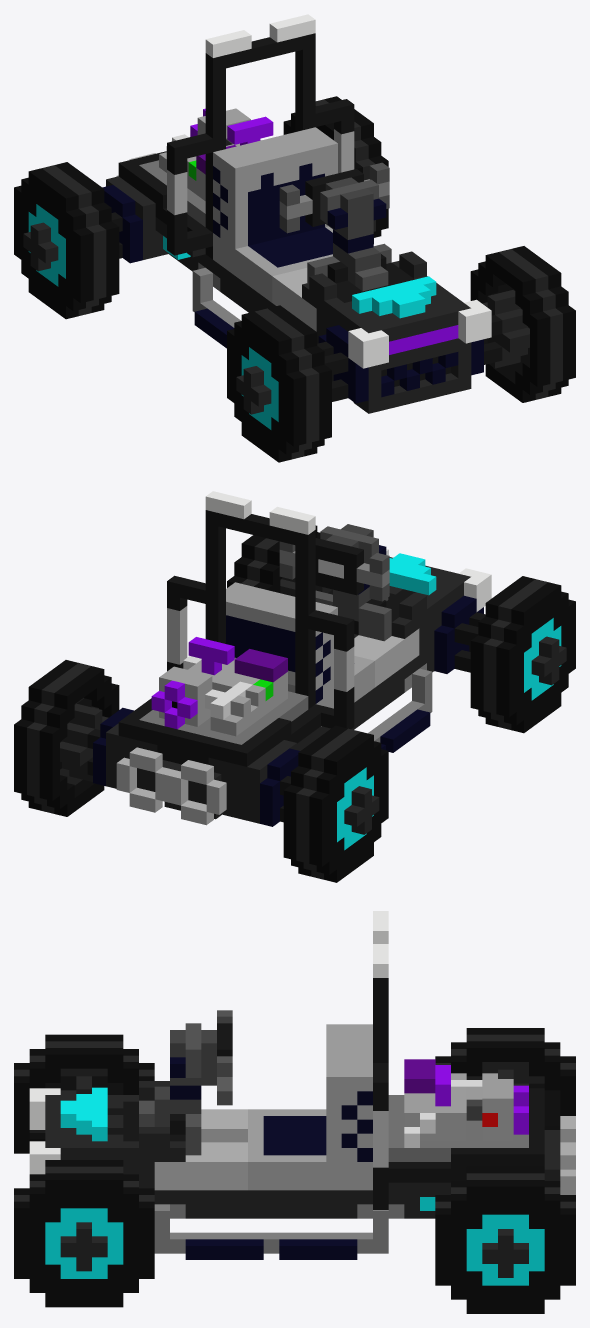
The model's file is Black_Gray_Kart.obj.
The picture shows the model from 3 angles, top to bottom: view 1: azimuth 30°, elevation 25°; view 2: azimuth 150°, elevation 25°; view 3: azimuth 270°, elevation 25°; orthographic projection. The views are drawn at different scales.
Size of the model in its own units: 2.6 by 2.1 by 3.6.
1 material, 1 textured.
